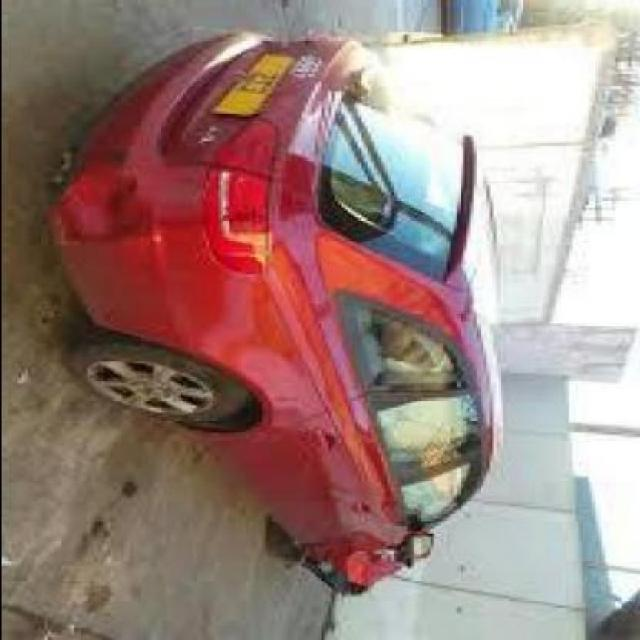damage: (54, 151, 169, 245), (293, 538, 404, 603)
